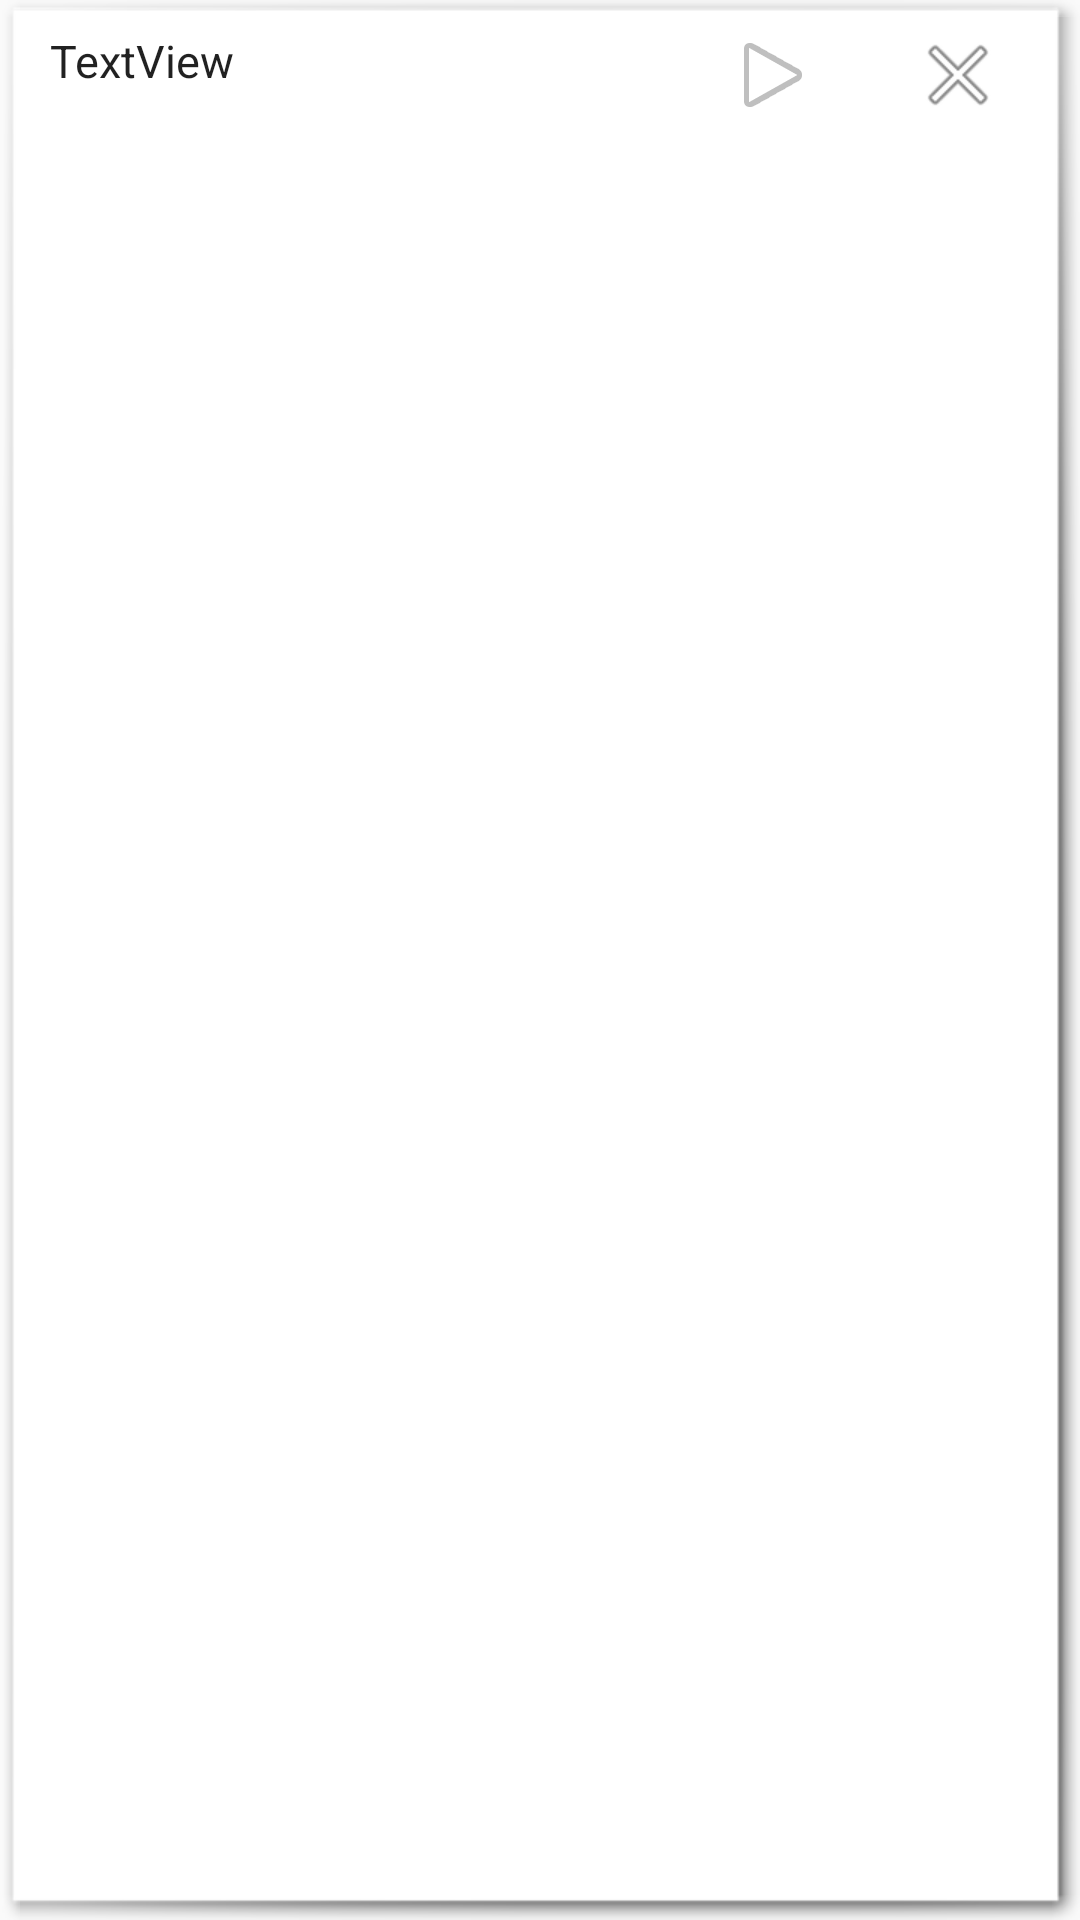

Icons on this 1080x1920 Android screen, each with the point to tap as [x,y]:
close clear cancel: [958,75]
play: [773,75]
